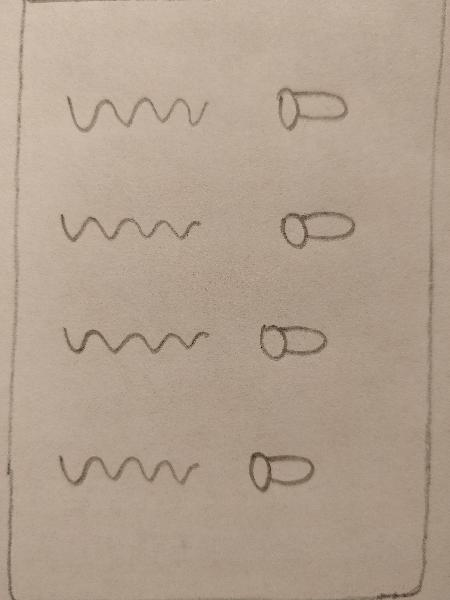switch: (266, 81, 360, 137), (269, 199, 363, 255), (248, 313, 342, 369), (242, 441, 336, 497)
text: (58, 83, 215, 140), (54, 196, 211, 253), (58, 311, 215, 368), (50, 436, 207, 493)
